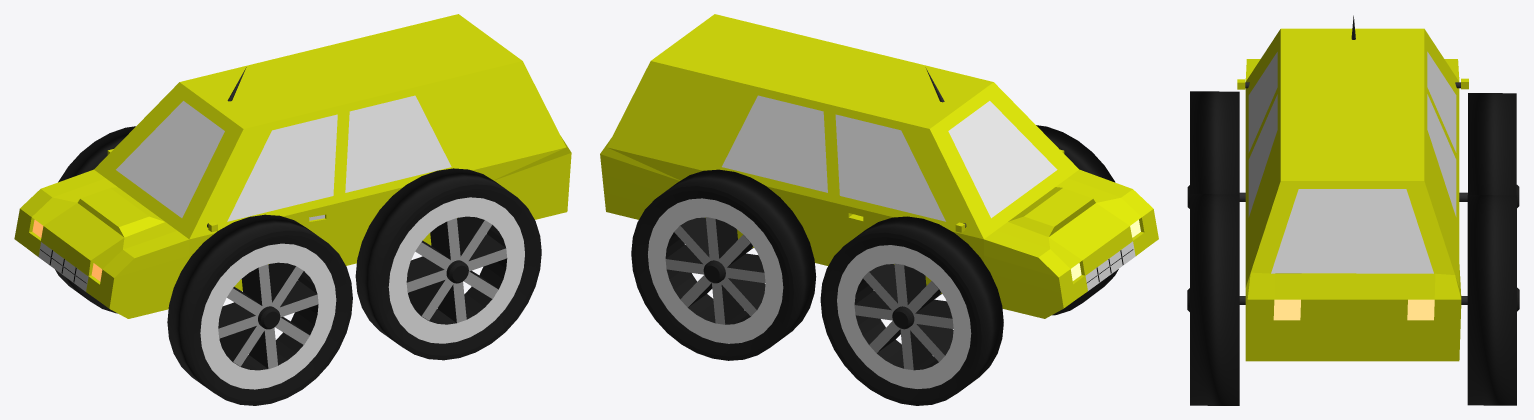
Rendered from car5.fbx.
3 renders of one model, left to right at view 1: azimuth 30°, elevation 25°; view 2: azimuth 150°, elevation 25°; view 3: azimuth 270°, elevation 25°, orthographic. The views are drawn at different scales.
Parts seen in each view (by area): view 1: Cylinder.001; view 2: Cylinder.001; view 3: Cylinder.001.
Boxes of the visible parts, x1,y1,x2,y2 form: Cylinder.001: (14,14,571,405); Cylinder.001: (600,14,1158,405); Cylinder.001: (1187,15,1519,405).
Bounding box in the file's own units: 4.71 × 2.66 × 2.61.
